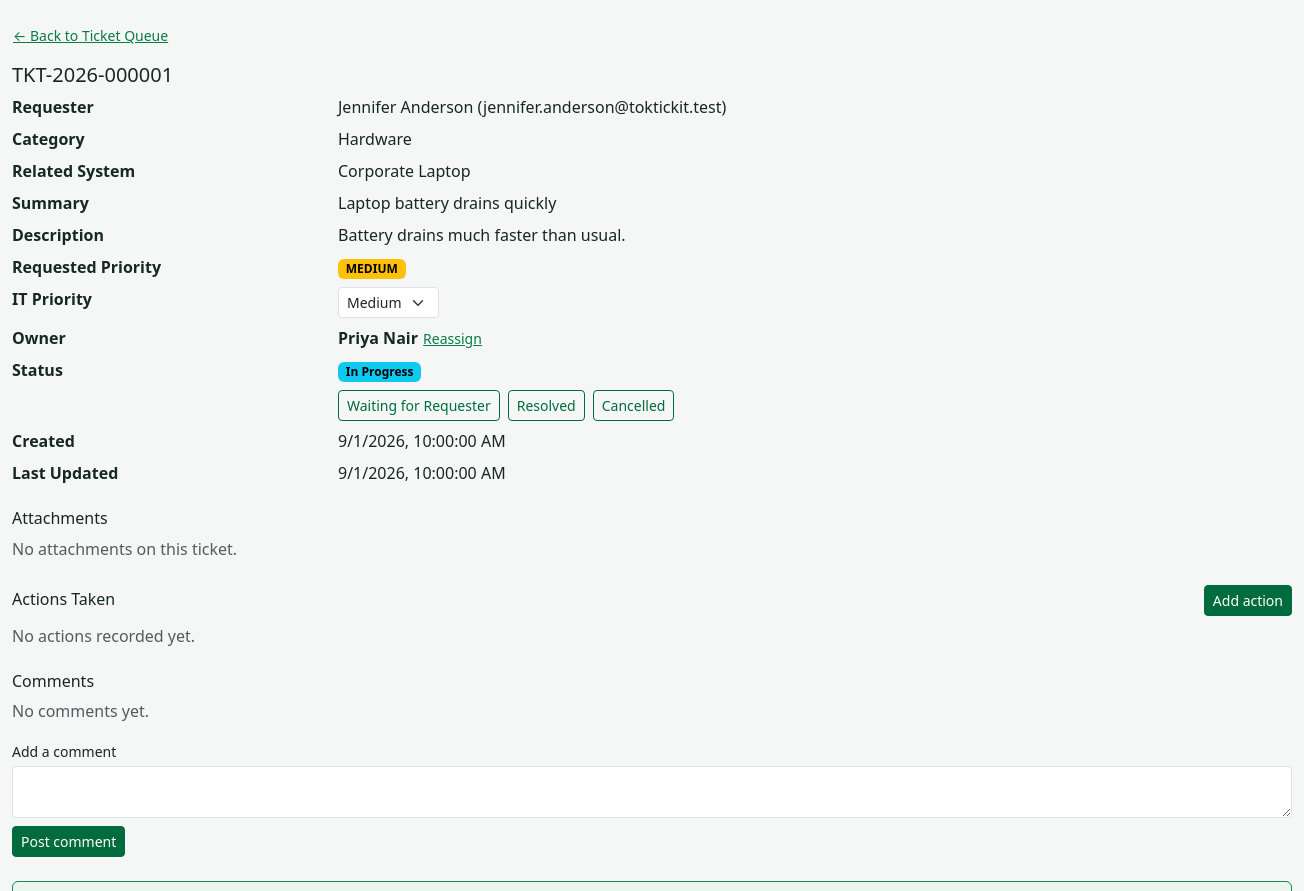
Test: TicketWorkflow: status buttons › UI-10: conflicts and refresh › RESOLUTION_GATE uses the same banner with the server's message
Expected: the heading "TKT-2026-000001" is shown, [12,61,173,88]
Click the button "Waiting for Requester". click: (419, 406)
box: [338,390,500,421]
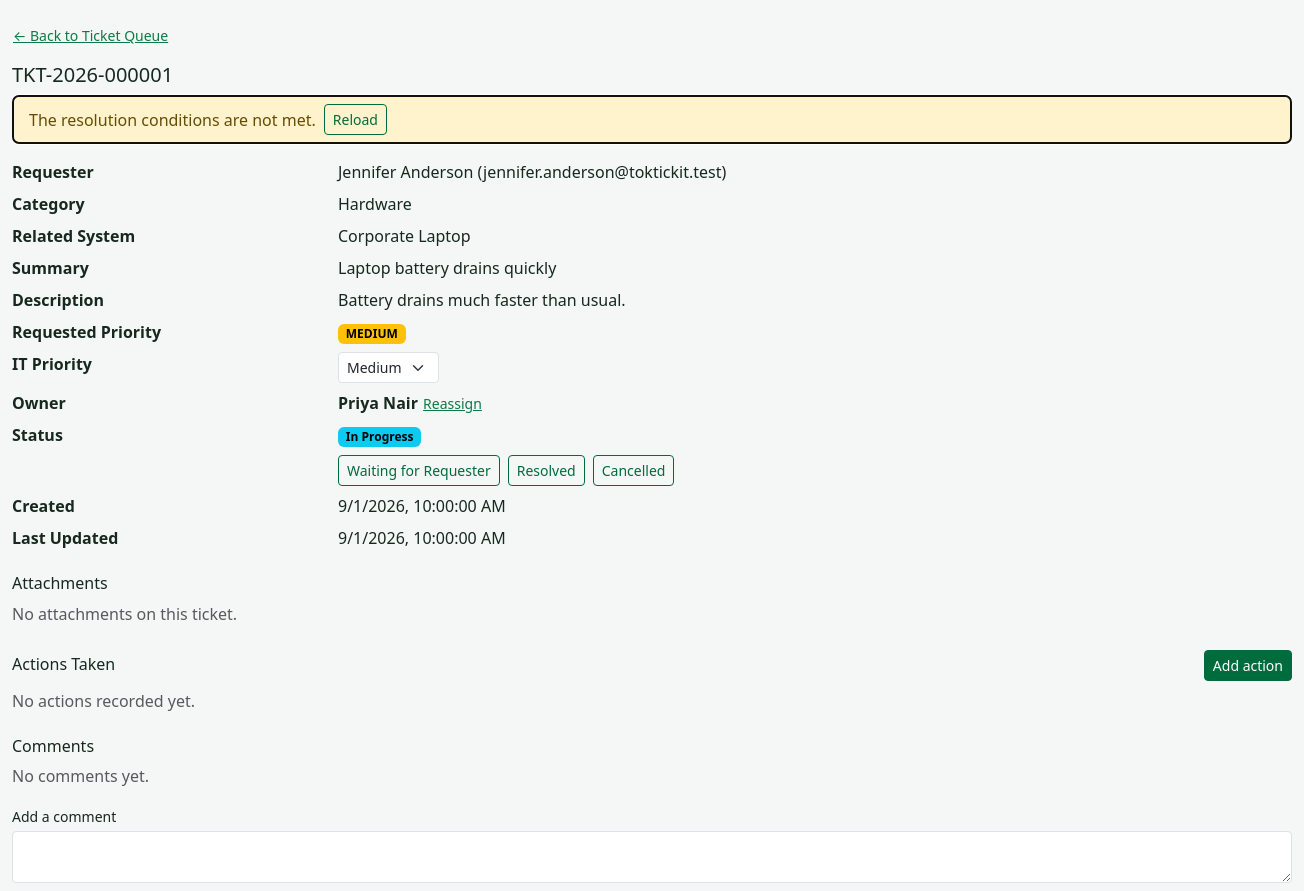
Expected: the text "The resolution conditions are not met." is shown, [29,108,316,130]
Expected: the button "Reload" is shown, [324,104,387,135]
